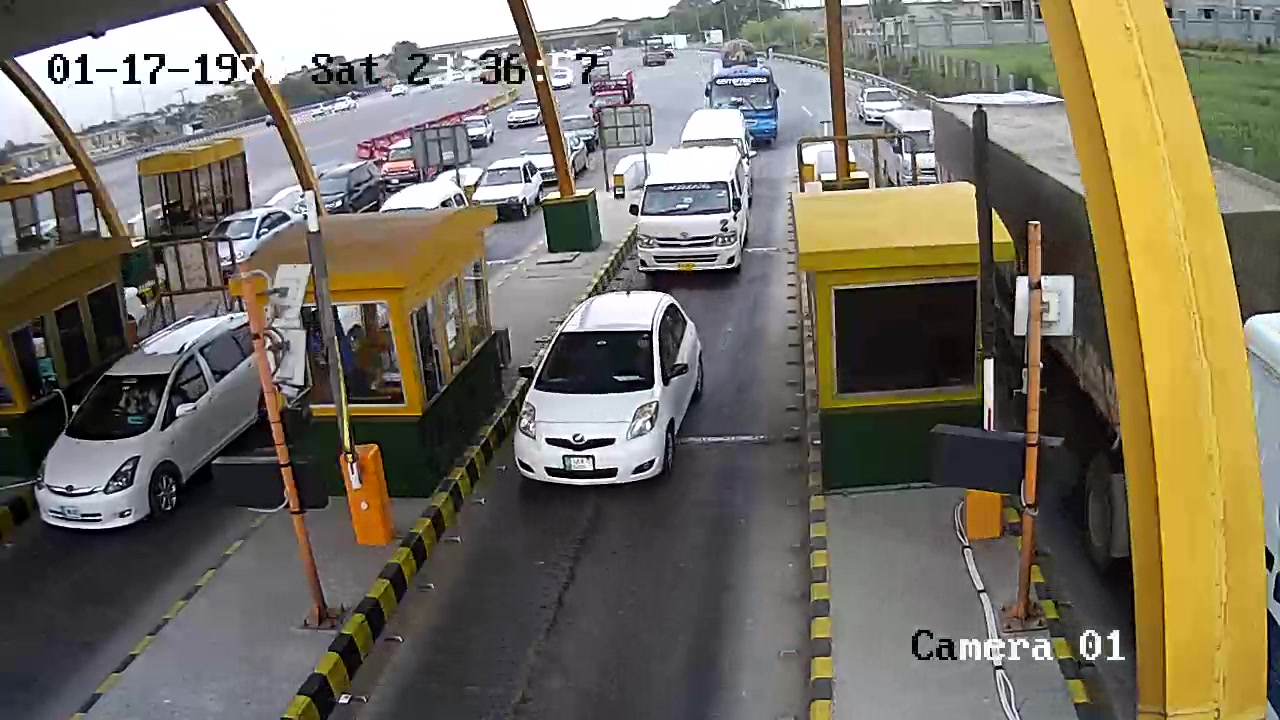F1: (514, 274, 713, 513)
